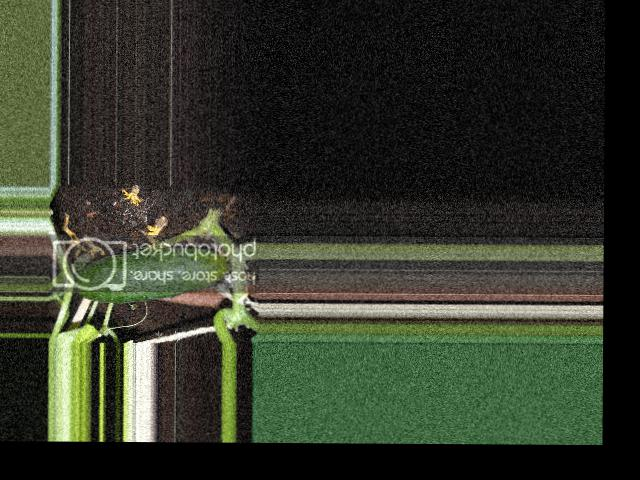cucumber: (75, 245, 227, 303)
